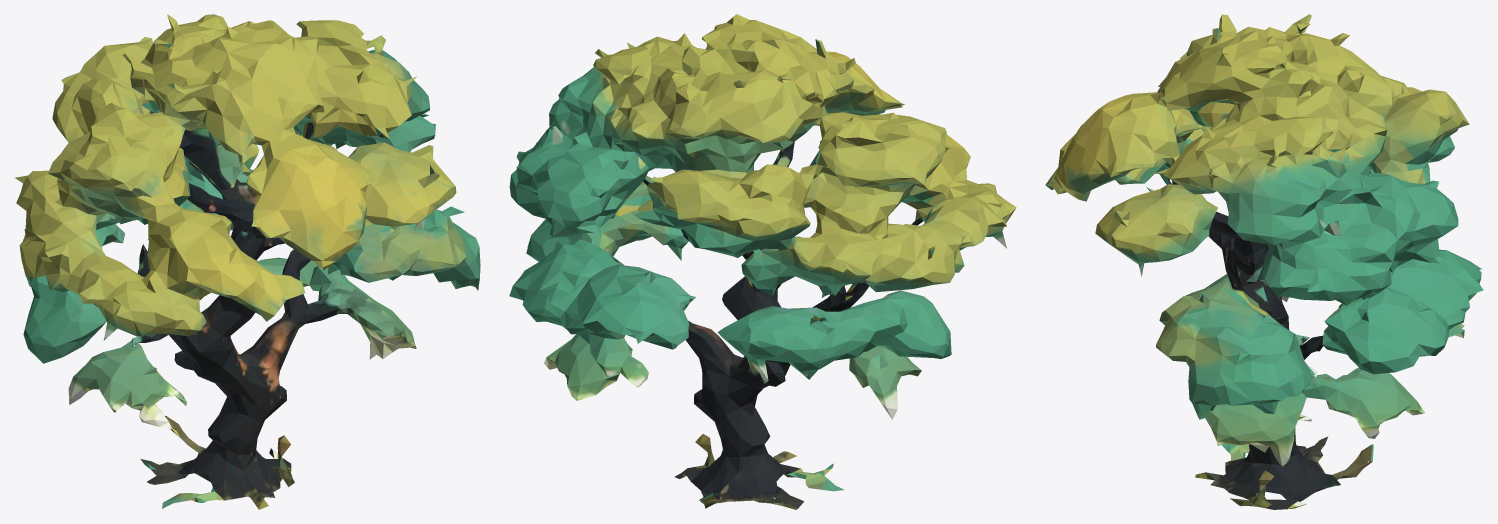
Rendered from tree_a.glb.
3 renders of one model, left to right at view 1: azimuth 30°, elevation 25°; view 2: azimuth 150°, elevation 25°; view 3: azimuth 270°, elevation 25°, orthographic. The views are drawn at different scales.
Visible parts, largest first — view 1: tmp0fk8d_za.ply; view 2: tmp0fk8d_za.ply; view 3: tmp0fk8d_za.ply.
Boxes of the visible parts, box(x1,y1,x2,y2) form: tmp0fk8d_za.ply: box(15, 14, 480, 509); tmp0fk8d_za.ply: box(509, 14, 1016, 509); tmp0fk8d_za.ply: box(1045, 14, 1483, 509).
Bounding box in the file's own units: 1.9 × 1.92 × 1.71.
1 material, 1 textured.
